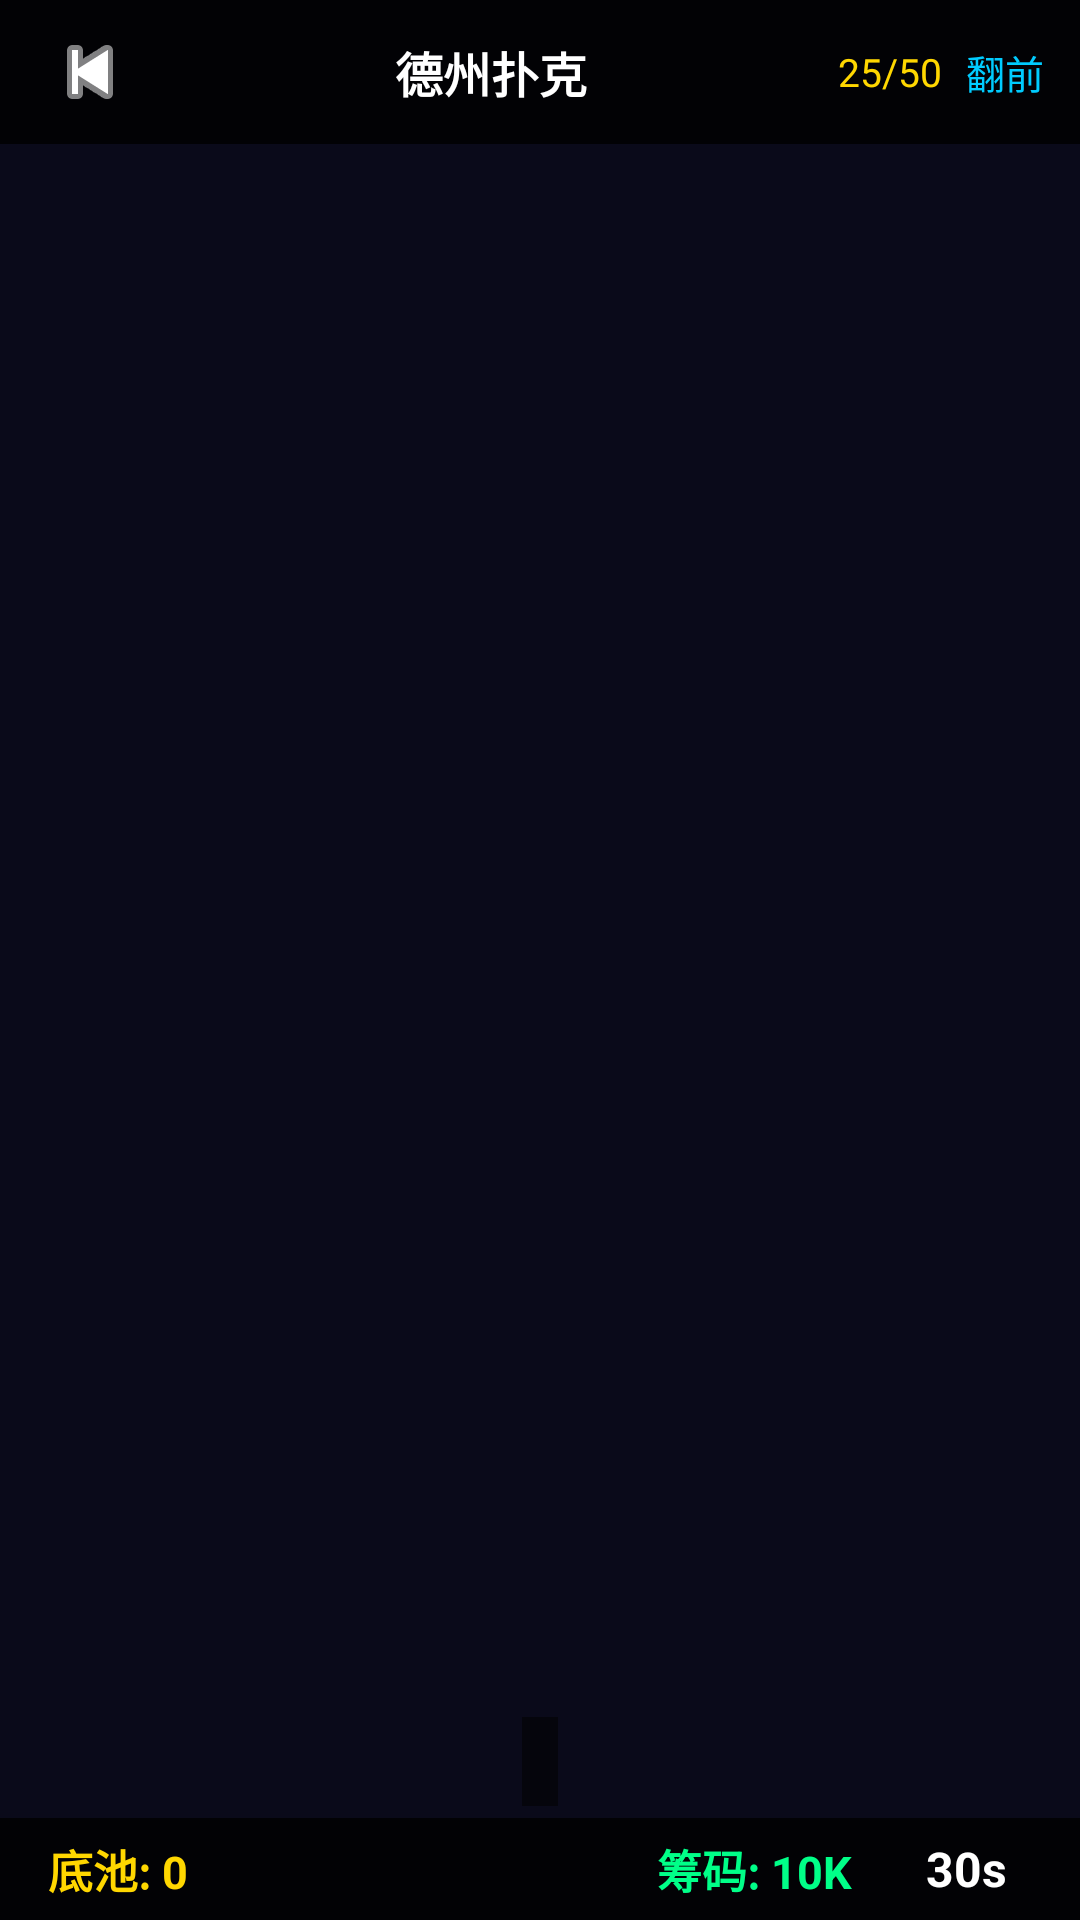

Where to tap for icons on this 1080px x 1920px app screen, as (x,y):
previous: (90,72)
